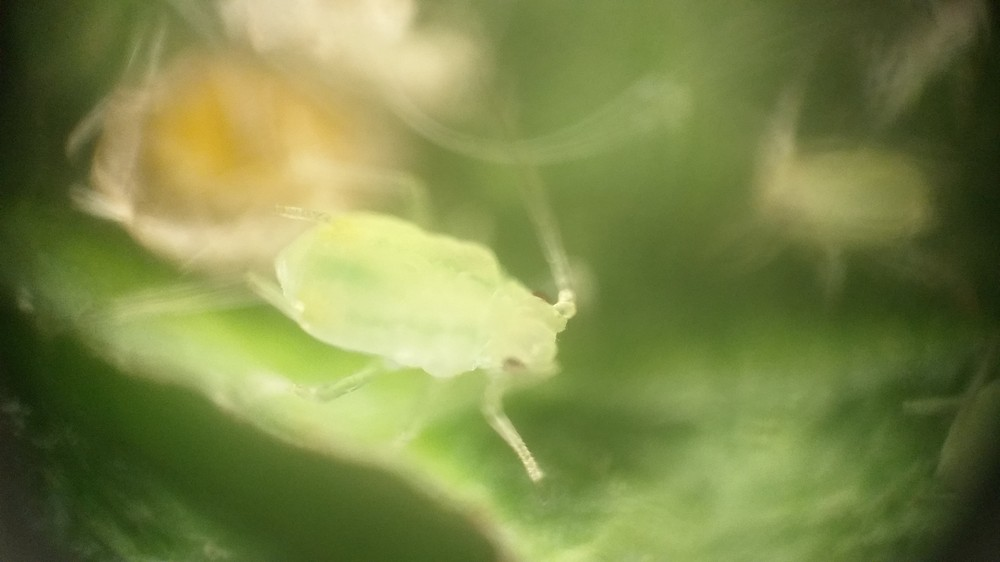Pulgon: (236, 146, 619, 511)
